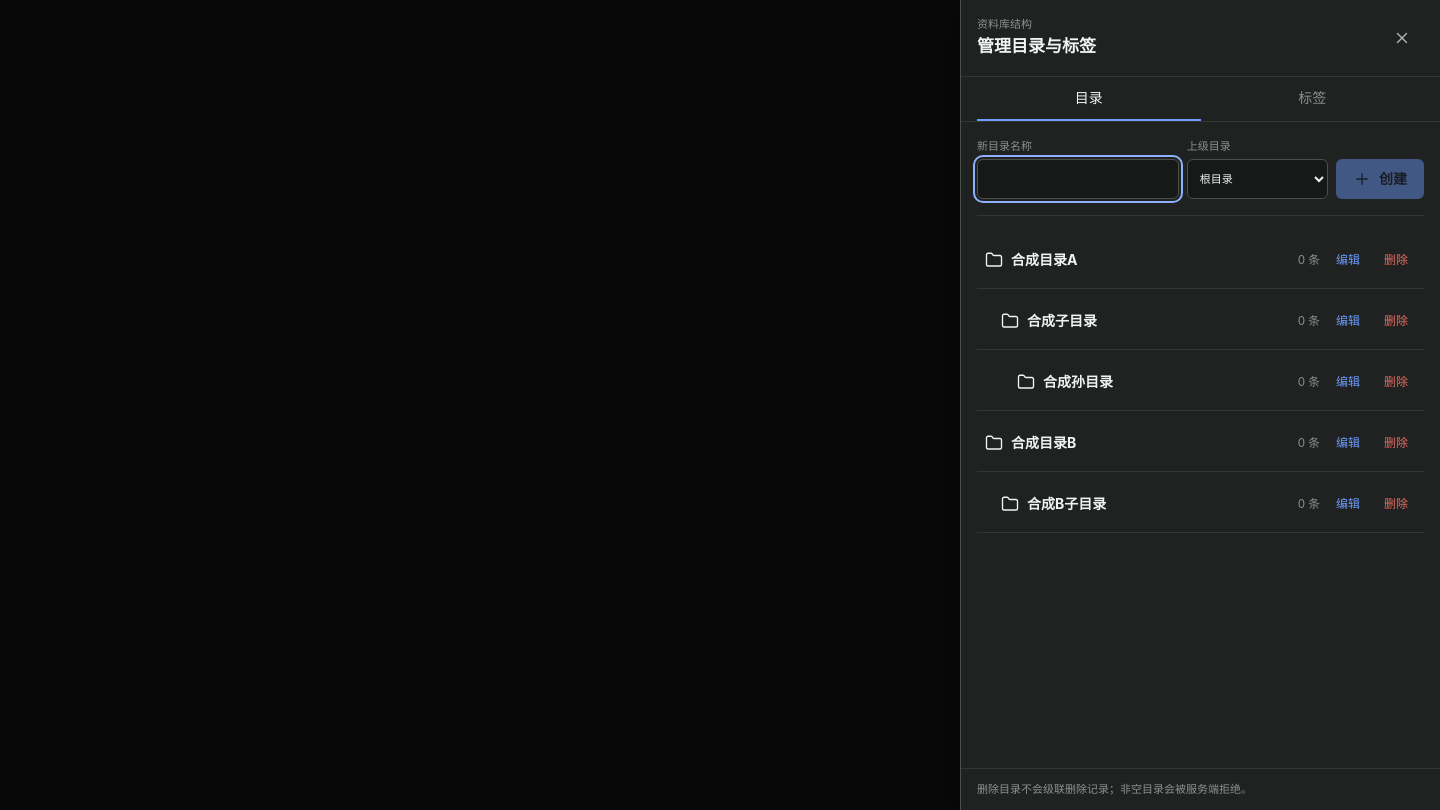
Test: LibraryManageDrawer 编辑上级候选排除自身子树（DT-R288） › 编辑根目录 A：A/子/孙整棵子树不进候选，根/B/B-child 保留且缩进不变，Create 上级仍是完整树
The width and height of the screenshot is (1440, 810).
expect the dialog with class "manager" is shown: met, box [960,0,1439,809]
expect the list item "合成目录A 0 条 编辑 删除" is shown: met, box [977,232,1424,289]
Click the button "编辑" in the row of "合成目录A" at {"x": 1348, "y": 260}, box [1328,240,1368,280]
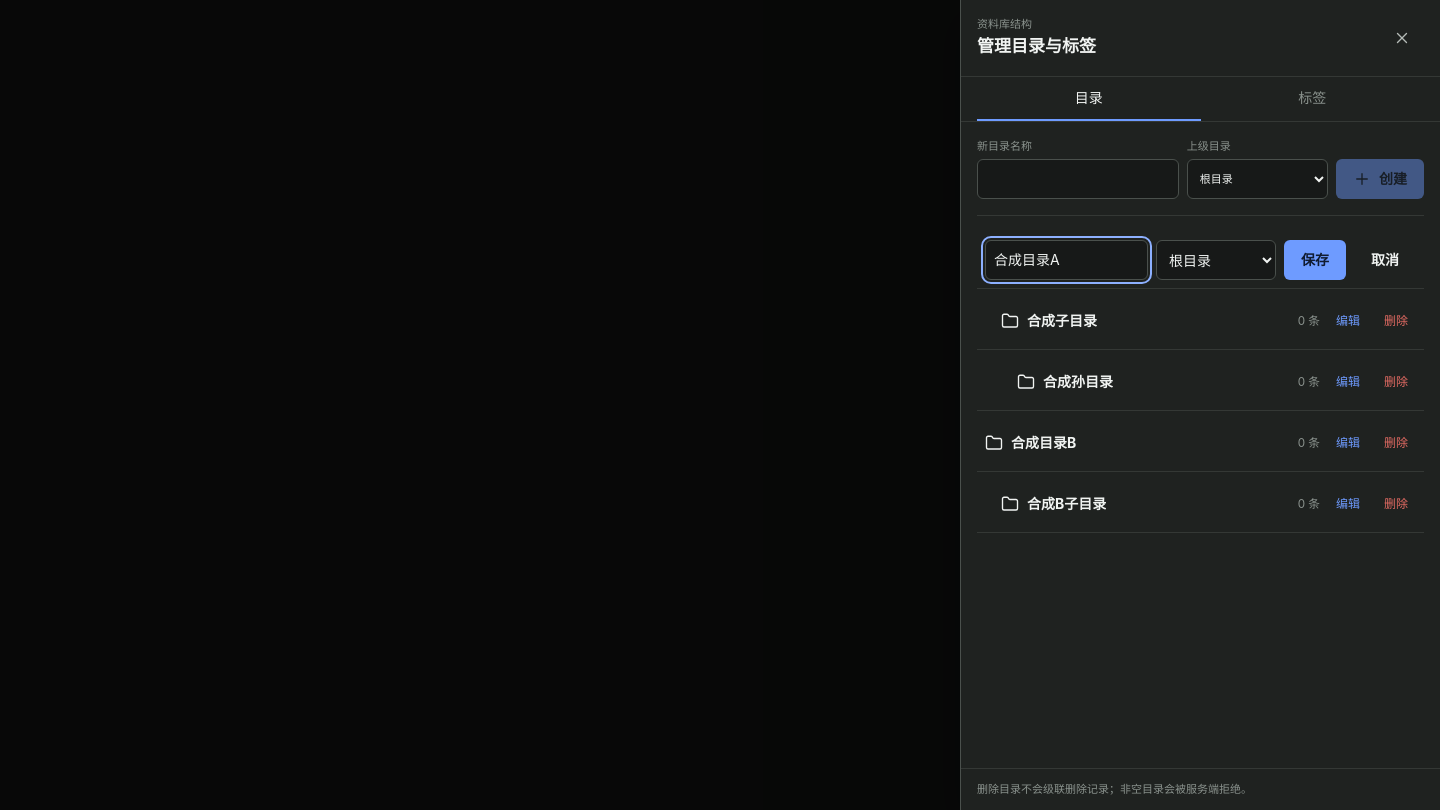
expect the field named "目录名称" holds "合成目录A": met, box [985,240,1148,280]
expect the dropdown named "上级目录" shows "根目录": met, box [1156,240,1276,280]
expect the form with class "edit-form" is shown: met, box [985,240,1416,280]
